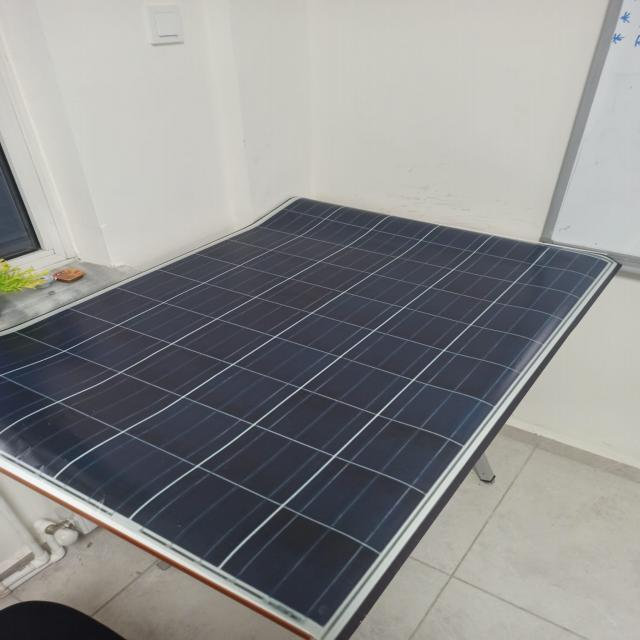no faulty: (0, 195, 623, 640)
